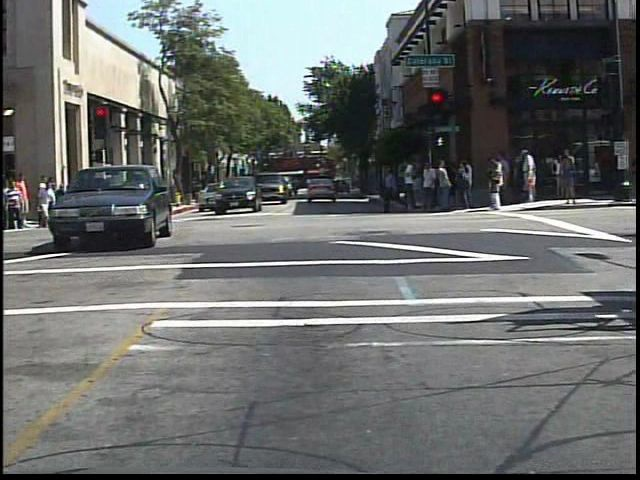person: (518, 148, 544, 206), (6, 178, 29, 232), (38, 174, 59, 224)
